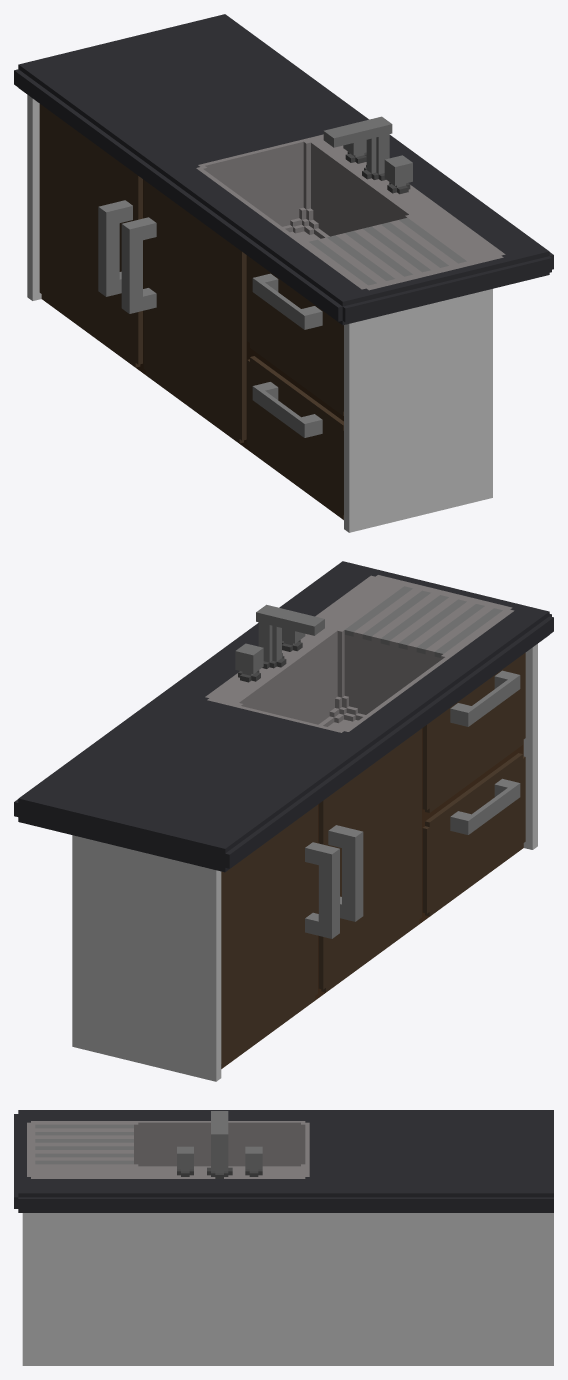
Rendered from kitchen countertop.obj.
3 views of the same model, one above another, from view 1: azimuth 30°, elevation 25°; view 2: azimuth 150°, elevation 25°; view 3: azimuth 270°, elevation 25° (orthographic). The views are drawn at different scales.
Size of the model in its own units: 5 by 6.1 by 12.6.
Materials: 1 (1 with a texture image).
